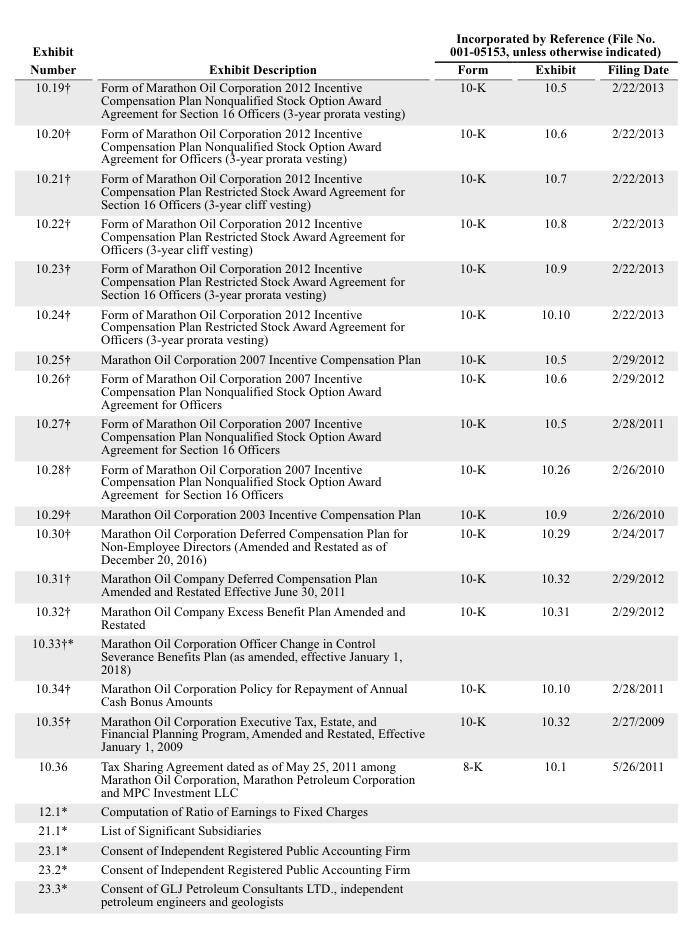table: (29, 28, 668, 909)
table column: (87, 28, 436, 909), (510, 28, 590, 909), (590, 28, 668, 909), (436, 28, 510, 909), (29, 28, 87, 909)
table column header: (29, 28, 668, 77)
table row: (29, 257, 668, 303), (29, 367, 668, 413), (29, 522, 668, 568), (29, 77, 668, 122), (29, 122, 668, 167), (29, 167, 668, 212), (29, 212, 668, 257), (29, 303, 668, 348), (29, 413, 668, 458), (29, 458, 668, 503), (29, 632, 668, 677), (29, 710, 668, 755), (29, 755, 668, 800), (29, 677, 668, 710), (29, 568, 668, 600), (29, 600, 668, 632), (29, 28, 668, 59), (29, 878, 668, 909), (29, 800, 668, 820), (29, 858, 668, 878), (29, 348, 668, 367), (29, 503, 668, 522), (29, 820, 668, 839), (29, 839, 668, 858), (29, 59, 668, 77)
table spanning cell: (87, 28, 436, 77), (436, 28, 668, 59), (29, 28, 87, 77)
